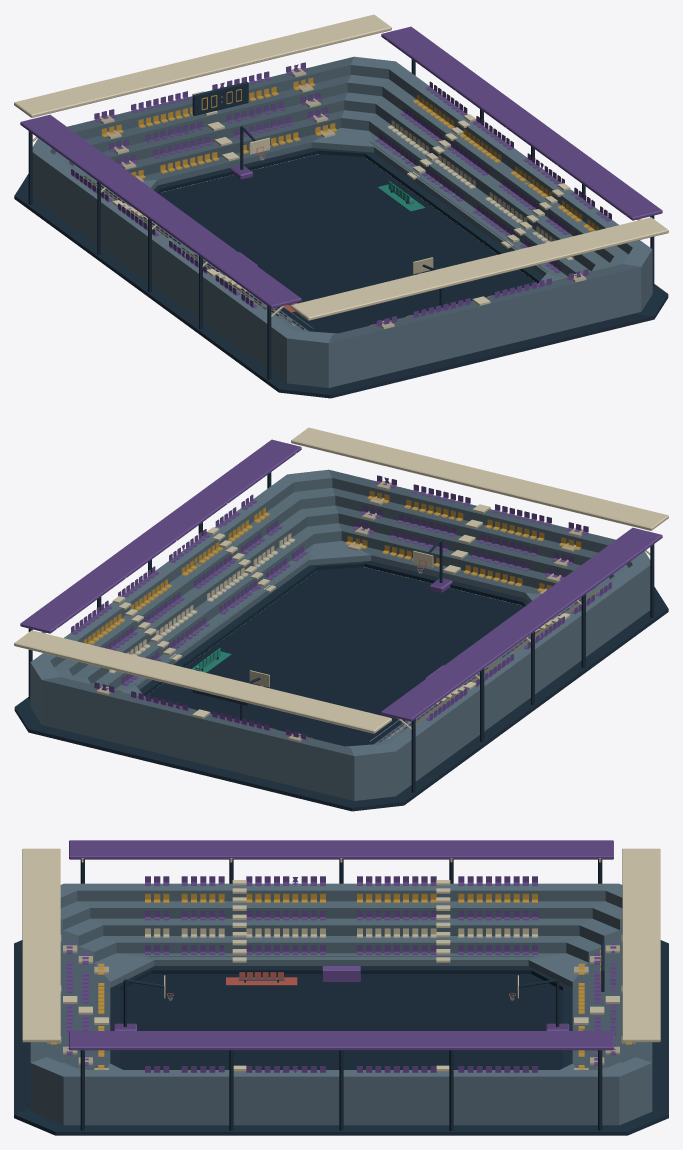
The model's file is basketball-stage.glb.
The picture shows the model from 3 angles, top to bottom: view 1: azimuth 30°, elevation 25°; view 2: azimuth 150°, elevation 25°; view 3: azimuth 270°, elevation 25°; orthographic projection. The views are drawn at different scales.
Visible parts, largest first — view 1: basketball_stage; view 2: basketball_stage; view 3: basketball_stage.
Boxes of the visible parts, bbox=[...] form: basketball_stage: bbox=[14, 14, 668, 398]; basketball_stage: bbox=[14, 427, 668, 811]; basketball_stage: bbox=[14, 840, 668, 1135].
Bounding box in the file's own units: 35.6 × 7.26 × 47.6.
